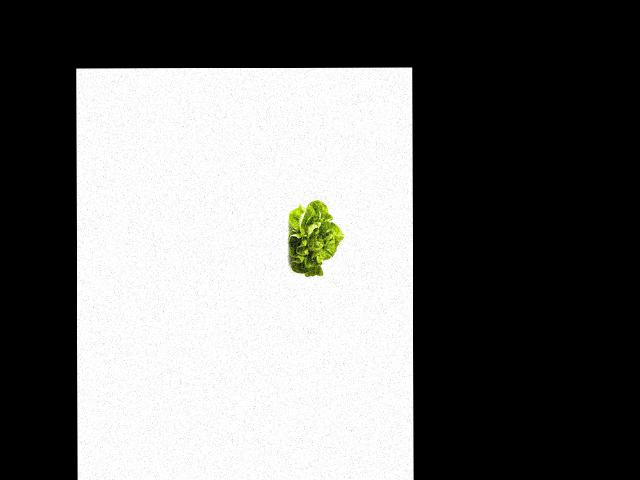lettuce: (287, 197, 343, 278)
